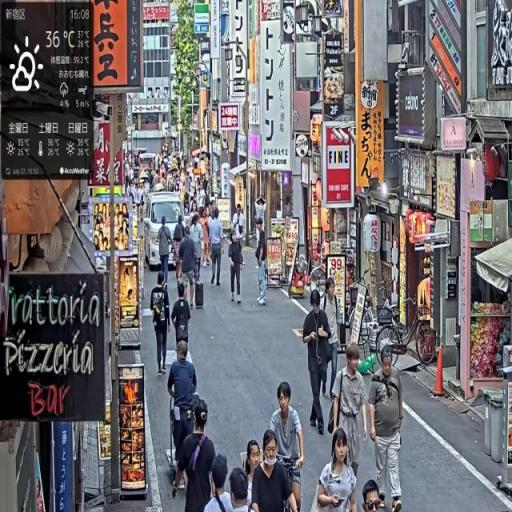person: (369, 347, 406, 512), (331, 343, 370, 494), (173, 399, 218, 512), (271, 379, 306, 510), (302, 292, 333, 438), (168, 342, 199, 470), (252, 430, 299, 512), (316, 428, 359, 512), (151, 270, 173, 378), (321, 279, 340, 402), (202, 452, 233, 512), (180, 225, 201, 310), (172, 281, 193, 356), (244, 439, 264, 512), (229, 228, 245, 307), (210, 210, 225, 289), (158, 215, 174, 289)
